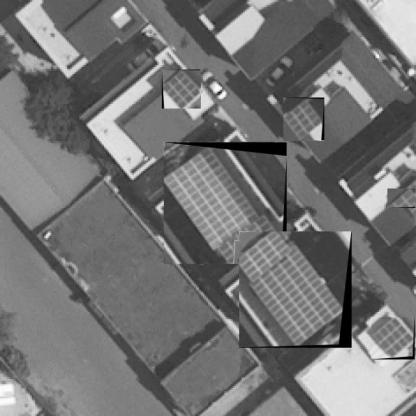solar-pv-panel: (164, 146, 283, 264), (239, 231, 345, 346), (371, 317, 414, 359), (283, 99, 323, 140), (163, 70, 200, 109), (387, 189, 416, 208)
